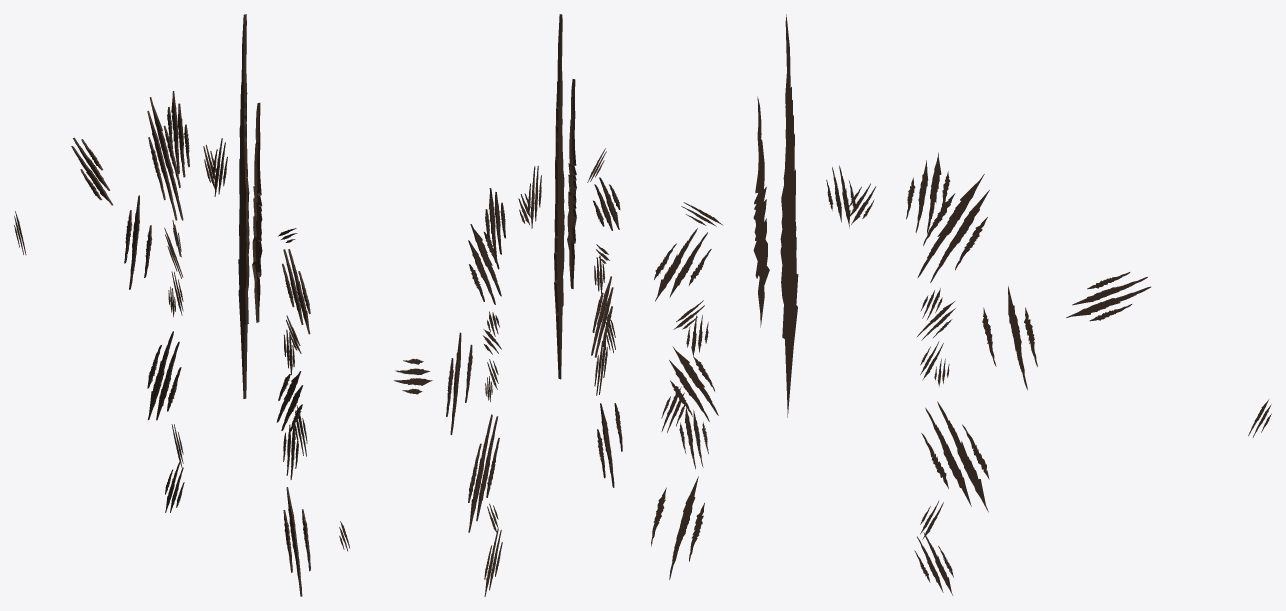
Rendered from Scratches.fbx.
3 views of the same model, side by side, from view 1: azimuth 30°, elevation 25°; view 2: azimuth 150°, elevation 25°; view 3: azimuth 270°, elevation 25° (orthographic). The views are drawn at different scales.
Visible parts, largest first — view 1: Scratches.072, Scratches.071, Scratches.032, Scratches.039, Scratches.030, Scratches.034, Scratches.019; view 2: Scratches.072, Scratches.071, Scratches.039, Scratches.037, Scratches.019, Scratches.032, Scratches.034; view 3: Scratches.072, Scratches.071.
Boxes of the visible parts, box(x1,y1,x2,y2) form: Scratches.072: box(238, 14, 249, 398); Scratches.071: box(252, 102, 262, 322); Scratches.032: box(149, 97, 183, 220); Scratches.039: box(148, 331, 173, 419); Scratches.030: box(147, 110, 177, 220); Scratches.034: box(286, 487, 302, 596); Scratches.019: box(129, 195, 139, 289); Scratches.072: box(554, 14, 564, 379); Scratches.071: box(567, 79, 576, 288); Scratches.039: box(468, 414, 492, 532); Scratches.037: box(476, 416, 498, 521); Scratches.019: box(450, 332, 461, 434); Scratches.032: box(470, 224, 501, 296); Scratches.034: box(600, 403, 614, 487); Scratches.072: box(780, 14, 798, 417); Scratches.071: box(753, 96, 769, 327).
Size of the model in its own units: 3.17 by 329 by 318.
